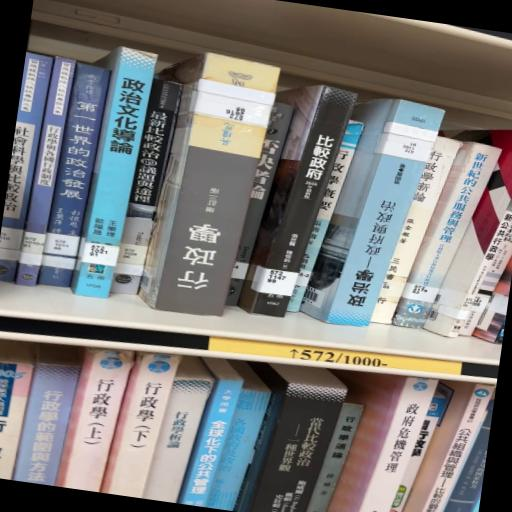reverse: (139, 54, 280, 317), (302, 100, 445, 327)
